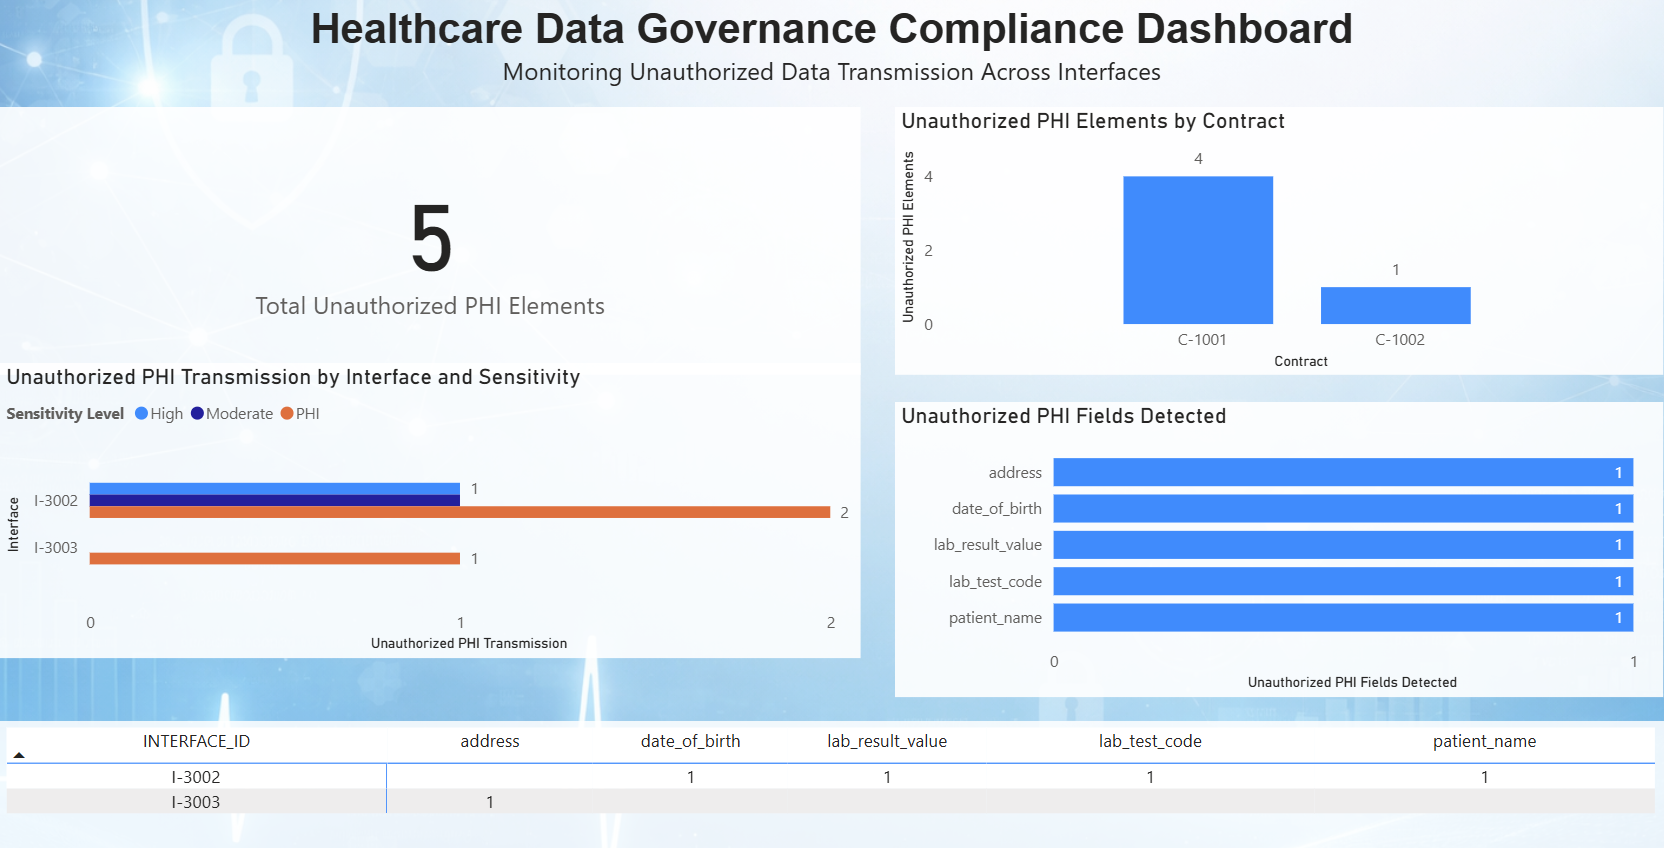

This screenshot's page, from the dashboard's own definition file:
{"tool":"powerbi","page":{"name":"Page 1","canvas":[1280,720],"ordinal":0},"visuals":[{"type":"clusteredBarChart","title":"Unauthorized PHI Fields Detected","fields":{"Category":["UNAUTHORIZED_DATA_ELEMENTS.DATA_ELEMENT_NAME"],"Y":["CountNonNull(UNAUTHORIZED_DATA_ELEMENTS.DATA_ELEMENT_ID)"]},"box":[688.7,309.9,591,226.6],"z":0},{"type":"pivotTable","fields":{"Rows":["UNAUTHORIZED_DATA_ELEMENTS.INTERFACE_ID"],"Columns":["UNAUTHORIZED_DATA_ELEMENTS.DATA_ELEMENT_NAME"],"Values":["CountNonNull(UNAUTHORIZED_DATA_ELEMENTS.DATA_ELEMENT_ID)"]},"box":[0,555.5,1280,154.8],"z":1000},{"type":"card","fields":{"Values":["CountNonNull(UNAUTHORIZED_DATA_ELEMENTS.DATA_ELEMENT_ID)"]},"box":[0,83.3,661.8,206],"z":2000},{"type":"clusteredBarChart","fields":{"Category":["UNAUTHORIZED_DATA_ELEMENTS.INTERFACE_ID"],"Y":["CountNonNull(UNAUTHORIZED_DATA_ELEMENTS.DATA_ELEMENT_ID)"],"Series":["UNAUTHORIZED_DATA_ELEMENTS.SENSITIVITY_LEVEL"]},"box":[0,280.3,661.8,226.6],"z":3000},{"type":"clusteredColumnChart","fields":{"Category":["UNAUTHORIZED_DATA_ELEMENTS.CONTRACT_ID"],"Y":["CountNonNull(UNAUTHORIZED_DATA_ELEMENTS.DATA_ELEMENT_ID)"]},"box":[688.7,83.3,591,206],"z":4000},{"type":"textbox","box":[0,0,1279.7,96.7],"z":5000}]}

Visuals, with their boxes on the page's 1280x720 design canvas (x1, y1, x2, y2). These are canvas units, not pixel positions in the 1664x848 screenshot, which may show the page scaled, cropped or inside an application window:
"Unauthorized PHI Fields Detected" clusteredBarChart: Rect(689, 310, 1280, 536)
pivotTable - UNAUTHORIZED_DATA_ELEMENTS.INTERFACE_ID x UNAUTHORIZED_DATA_ELEMENTS.DATA_ELEMENT_NAME: Rect(0, 556, 1280, 710)
card - CountNonNull(UNAUTHORIZED_DATA_ELEMENTS.DATA_ELEMENT_ID): Rect(0, 83, 662, 289)
clusteredBarChart - UNAUTHORIZED_DATA_ELEMENTS.INTERFACE_ID x CountNonNull(UNAUTHORIZED_DATA_ELEMENTS.DATA_ELEMENT_ID): Rect(0, 280, 662, 507)
clusteredColumnChart - UNAUTHORIZED_DATA_ELEMENTS.CONTRACT_ID x CountNonNull(UNAUTHORIZED_DATA_ELEMENTS.DATA_ELEMENT_ID): Rect(689, 83, 1280, 289)
textbox: Rect(0, 0, 1280, 97)
